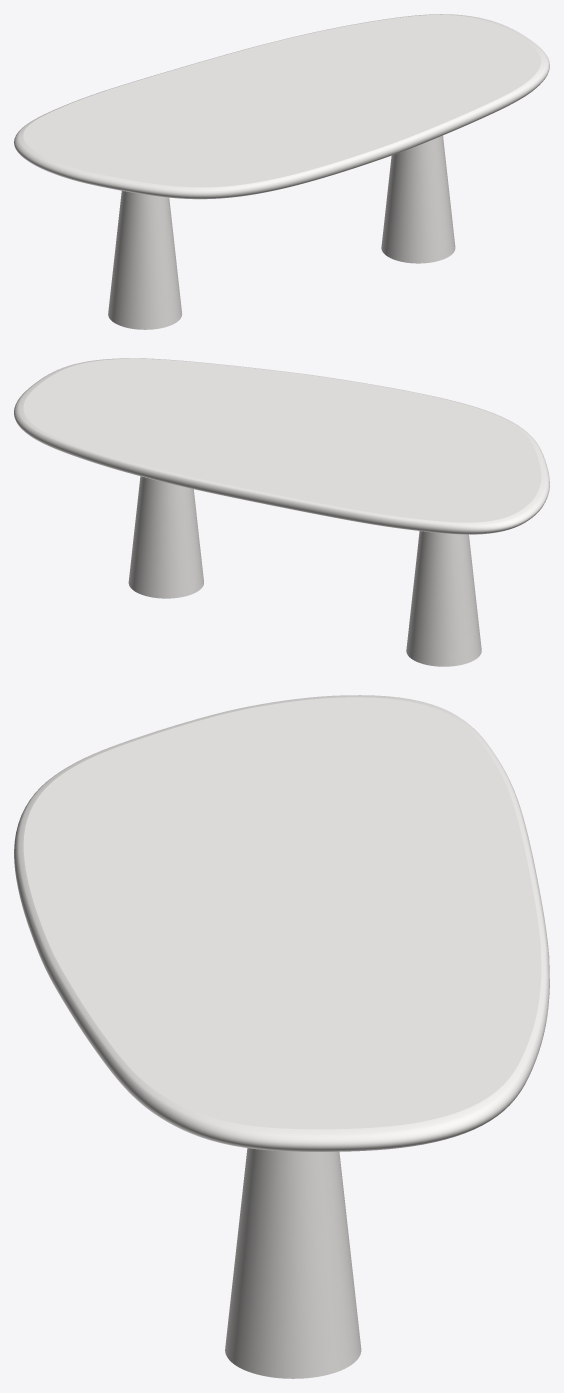
The model's file is purewhite_leaf2_round_pebble.glb.
3 renders of one model, top to bottom at view 1: azimuth 30°, elevation 25°; view 2: azimuth 150°, elevation 25°; view 3: azimuth 270°, elevation 25°, orthographic. The views are drawn at different scales.
Visible parts, largest first — view 1: round_leaf2, pebble; view 2: round_leaf2, pebble; view 3: round_leaf2, pebble.
Boxes of the visible parts, x1,y1,x2,y2 form: round_leaf2: (14,14,549,199); pebble: (108,135,455,329); round_leaf2: (14,358,549,534); pebble: (128,476,481,666); round_leaf2: (14,695,549,1151); pebble: (225,1148,361,1378).
Size of the model in its own units: 7.5 by 2.52 by 3.8.
Materials: 1 (1 with a texture image).
